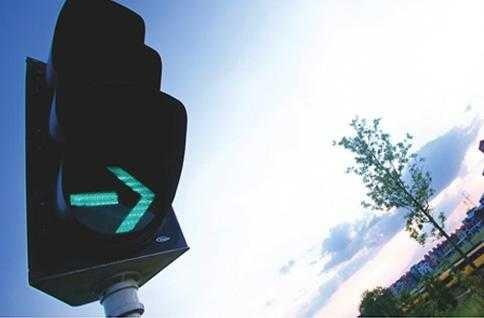green: (46, 136, 168, 242)
